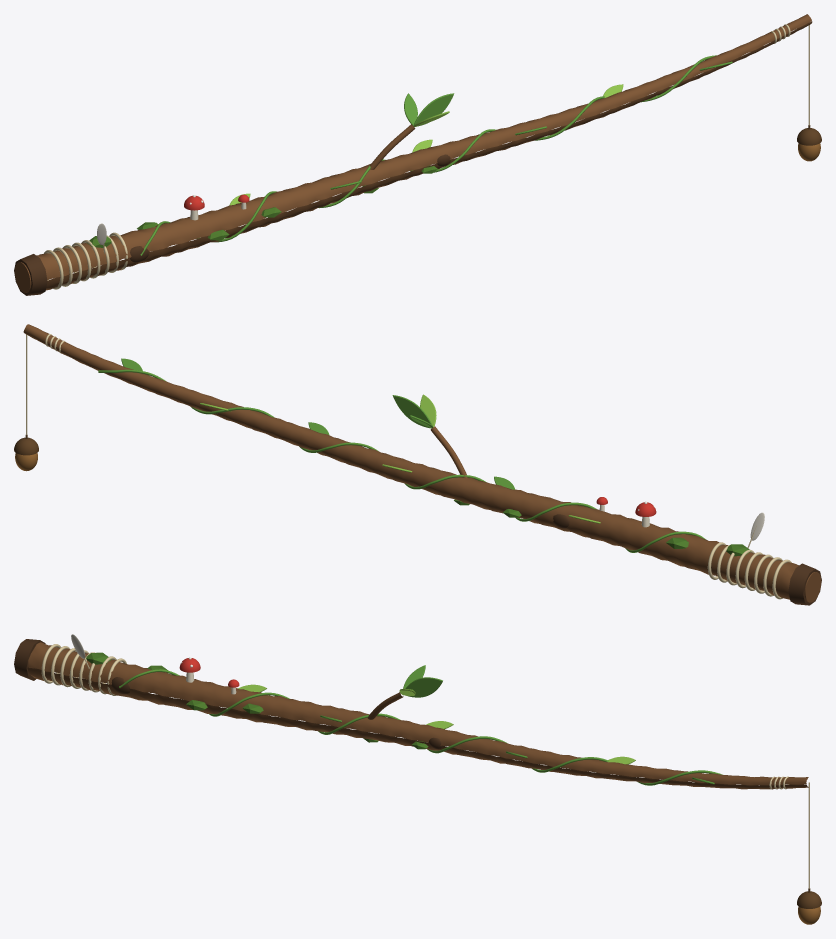
Rendered from ROD_STICK.glb.
3 views of the same model, one above another, from view 1: azimuth 30°, elevation 25°; view 2: azimuth 150°, elevation 25°; view 3: azimuth 330°, elevation 25° (orthographic).
Visible parts, largest first — view 1: branch, vine, butt_stump; view 2: branch, vine, butt_stump, twig_leaf_0; view 3: branch, vine, butt_stump.
Boxes of the visible parts, x1,y1,x2,y2 form: branch: (36,14,812,290); vine: (140,55,716,255); butt_stump: (14,254,47,295); branch: (23,324,798,599); vine: (98,369,706,552); butt_stump: (788,563,821,605); twig_leaf_0: (392,395,432,428); branch: (27,642,808,789); vine: (119,669,722,785); butt_stump: (14,639,45,680).
Size of the model in its own units: 1.76 by 0.3358 by 0.1133.
